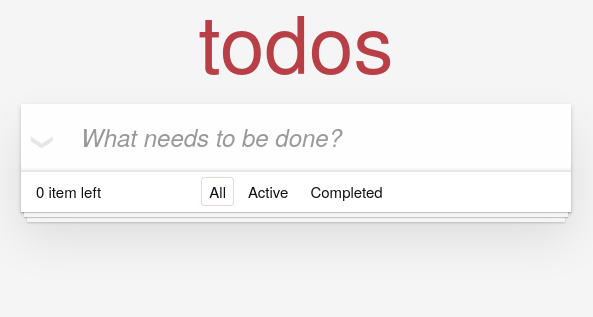
Test: 添加任务 › 在输入框中输入内容敲回车，应该添加任务到列表中
Step 1. Type "Hello World" into the field with test id "new-todo" → (296, 137), box [21,104,571,170]
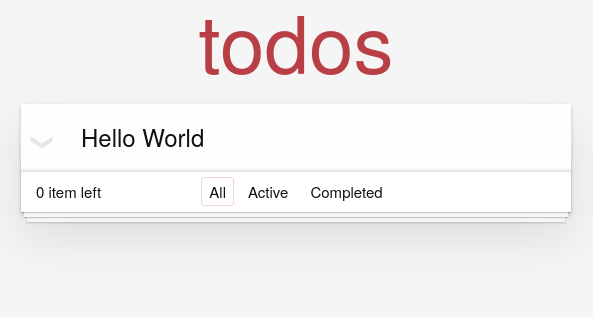
Step 2. Press Enter in the field with test id "new-todo", box [21,104,571,170]
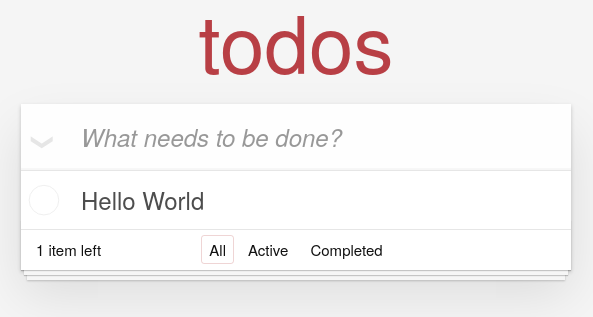
Now the list item with test id "todo-item" is shown, box [21,171,571,229]
Now the label with test id "todo-text" reads "Hello World", box [81,182,204,217]
